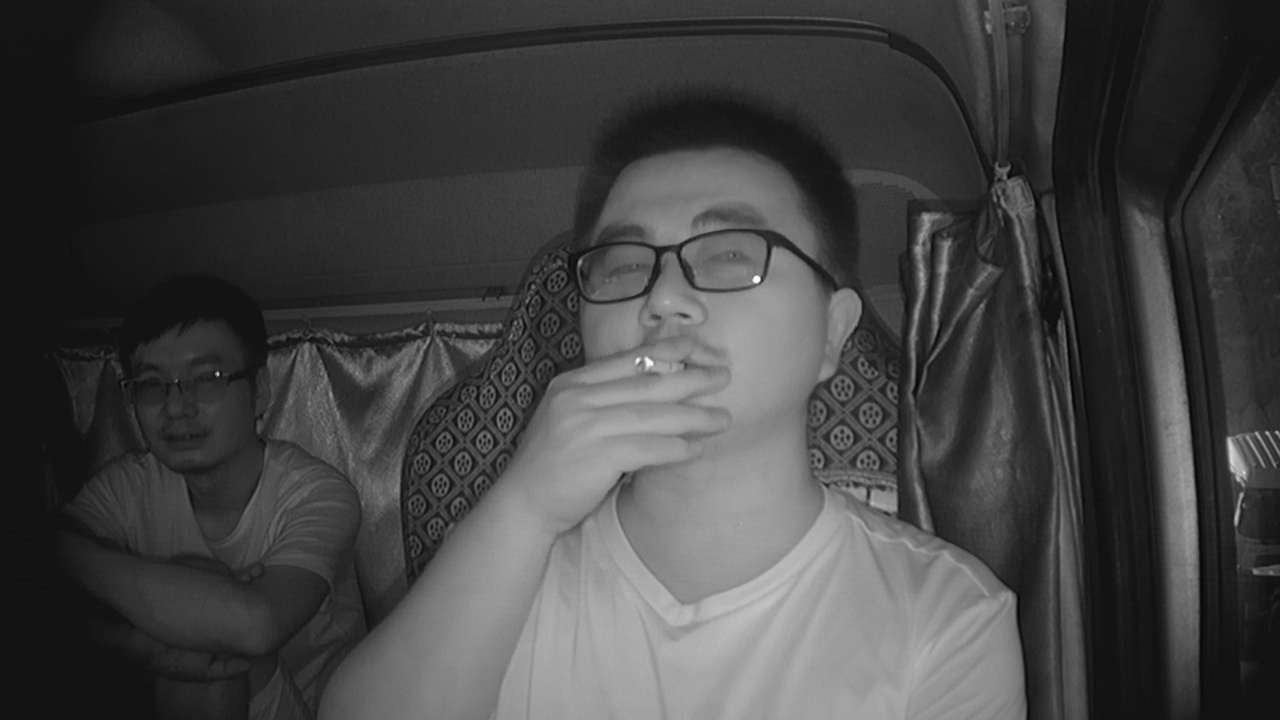hand: (531, 353, 729, 491)
